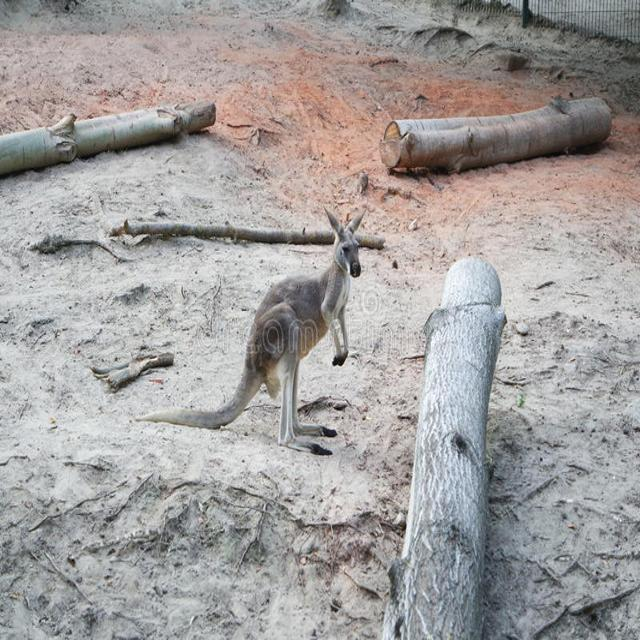kangaroo: (246, 211, 371, 453)
